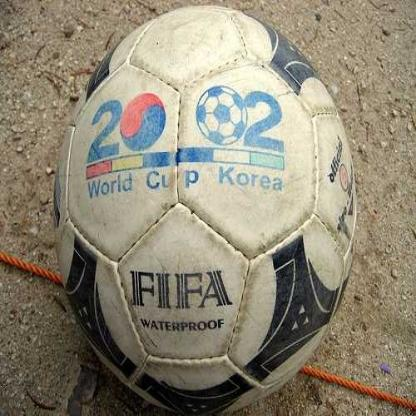ball: (53, 5, 358, 416)
